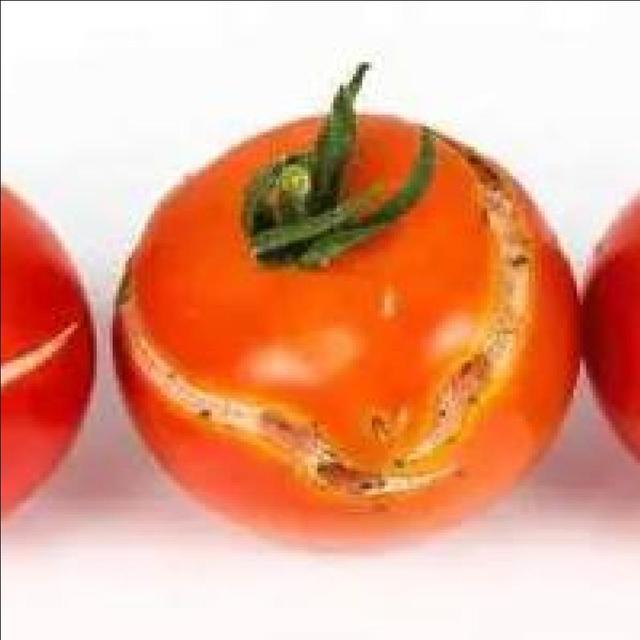Cracking Fruit: (24, 52, 321, 247)
